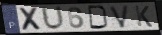6: (67, 6, 86, 30)
D: (87, 4, 110, 30)
K: (133, 5, 153, 28)
U: (40, 5, 67, 32)
V: (108, 4, 131, 29)
X: (17, 7, 45, 32)
